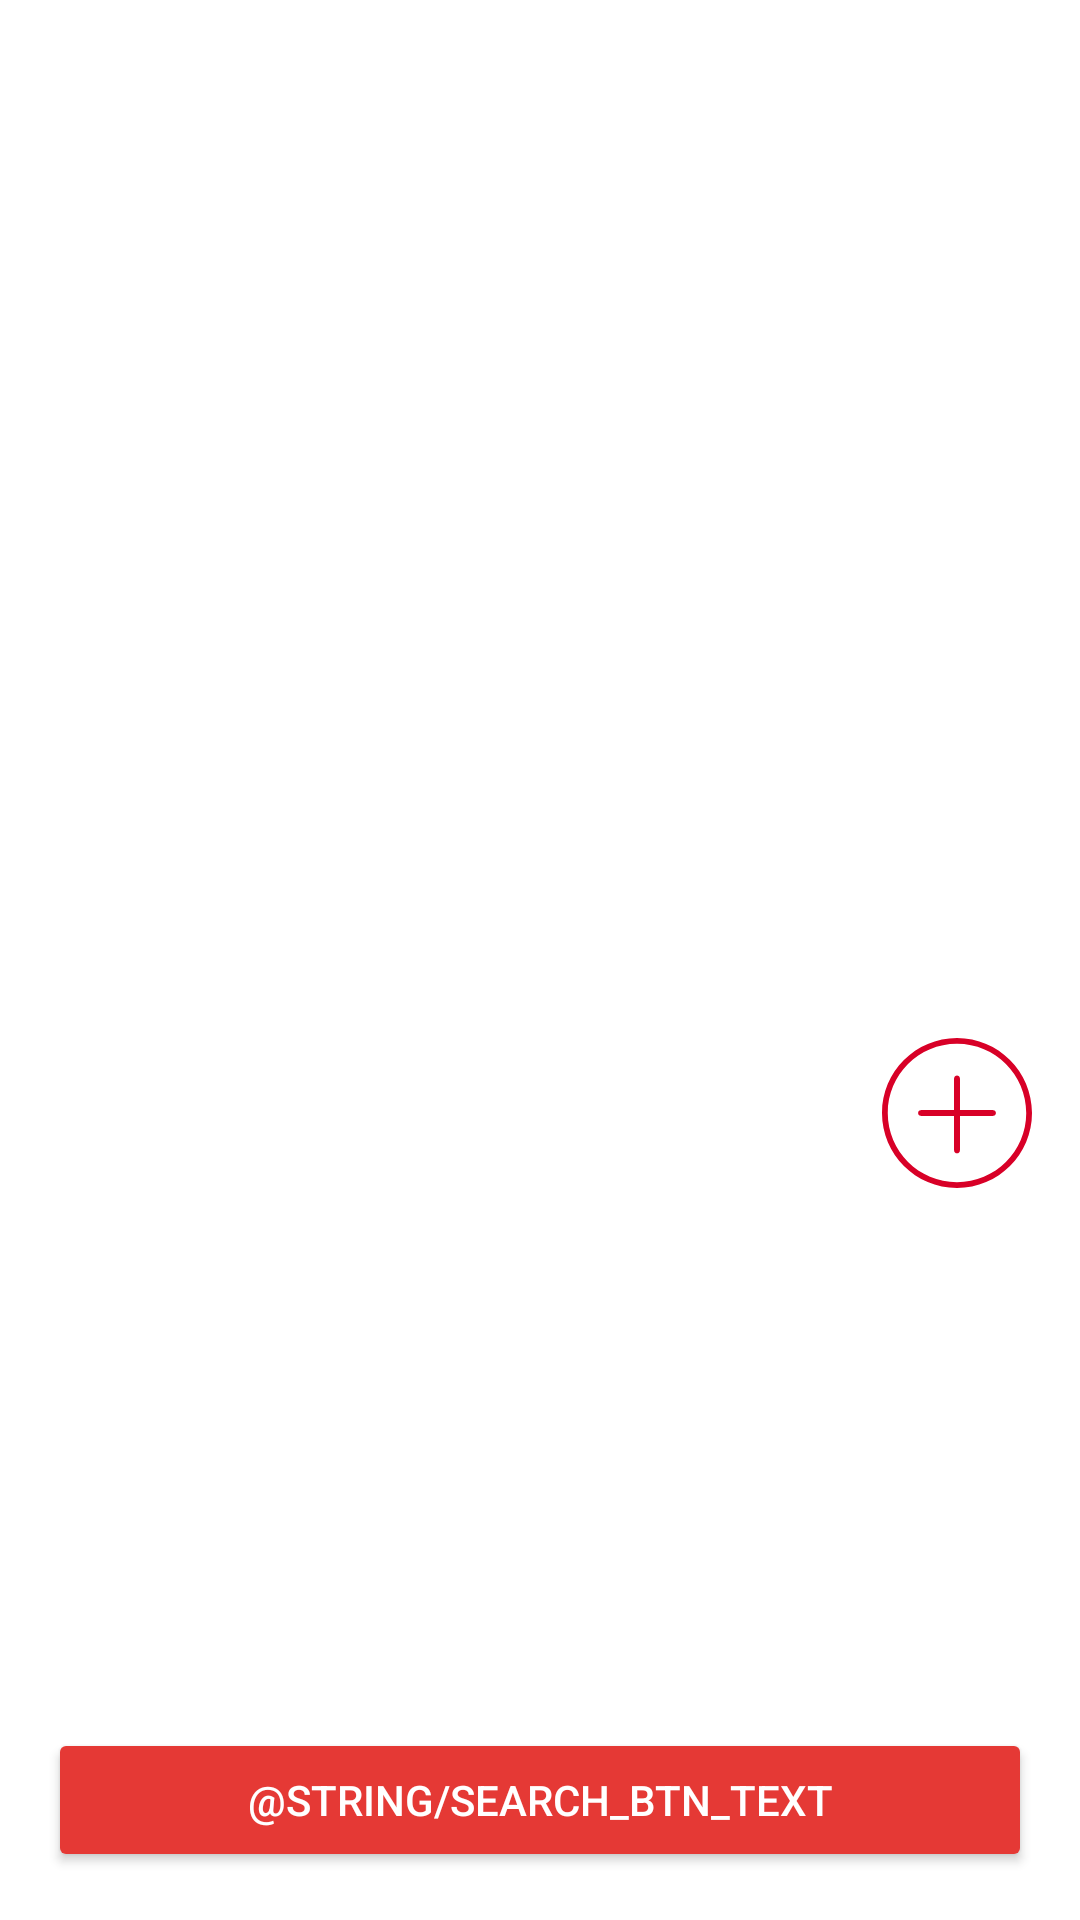

Screen size 1080w x 1920h. Icon name, then its box in pixels as (x1, y1, x2, y2):
plus: (882, 1038, 1032, 1188)
